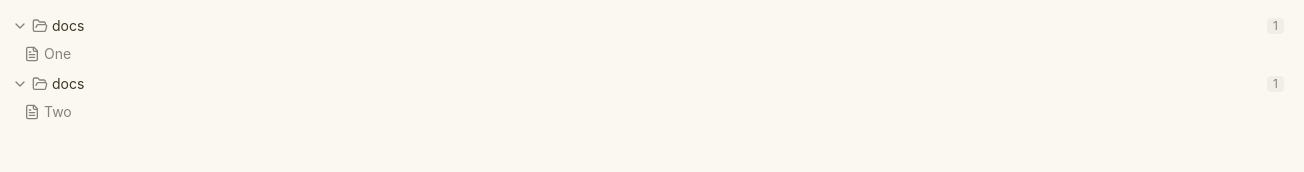
Scenario: FileTree › maintains independent expand/collapse state for dirs with same name at different paths
The image size is (1304, 172).
Expected: the text "One" is shown, [44, 44, 71, 64]
Expected: the text "Two" is shown, [44, 102, 72, 122]
Note: Collapse first 'docs' directory
Click the 1st button "docs 1": (68,26) [12, 12, 1292, 40]
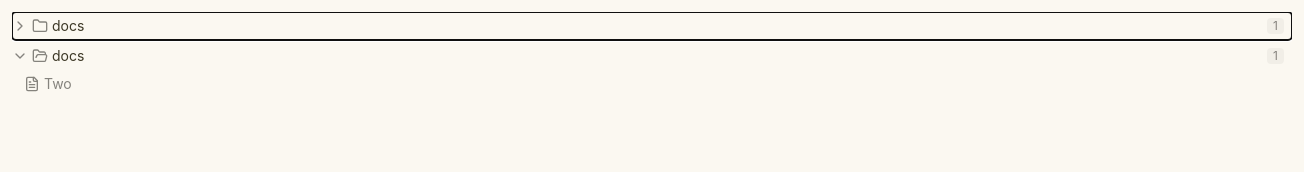
Expected: the text "Two" is shown, [44, 74, 72, 94]
Expected: the link "One" is gone
